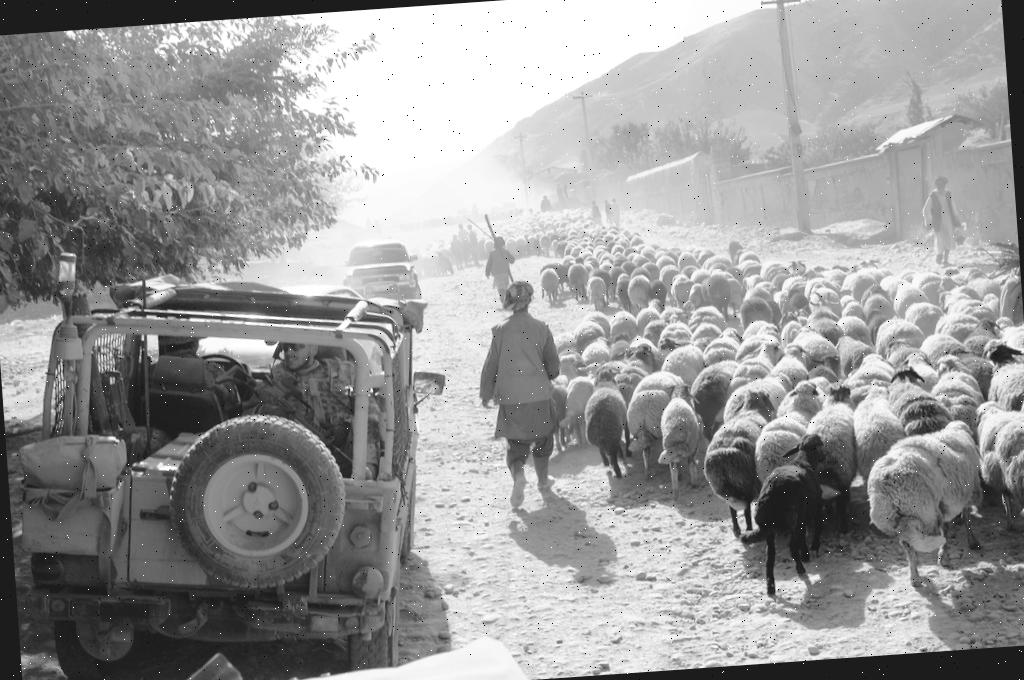Sheep: (860, 418, 996, 584), (750, 420, 837, 598), (700, 384, 790, 545), (749, 376, 832, 481), (969, 392, 1024, 531), (578, 359, 634, 482), (808, 378, 860, 497), (850, 374, 906, 474), (886, 358, 952, 442), (658, 377, 704, 488), (976, 326, 1024, 409), (926, 351, 978, 423), (731, 336, 788, 390), (870, 308, 924, 358), (785, 320, 837, 371), (657, 341, 709, 390), (888, 277, 931, 320), (700, 274, 736, 318), (806, 286, 844, 326), (624, 274, 658, 314), (564, 260, 592, 302), (607, 308, 636, 338)
